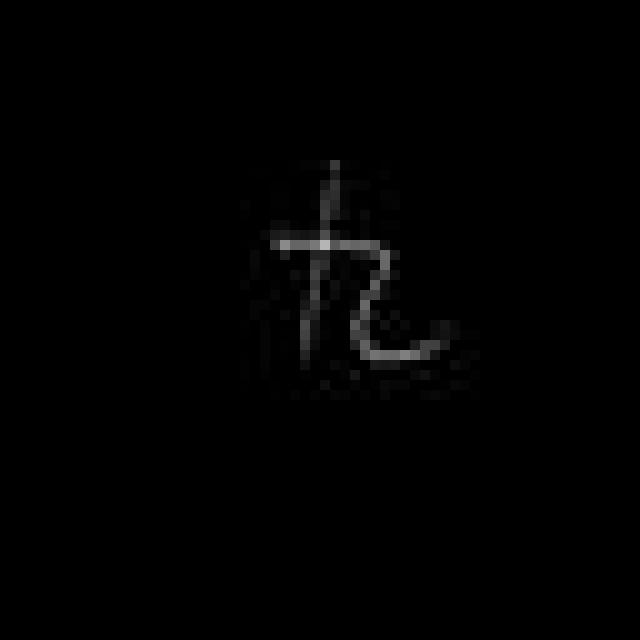9 -nine-: (272, 153, 444, 373)
